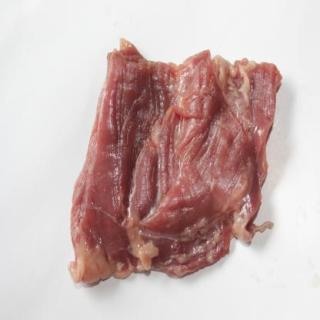Daging Sapi: (67, 37, 284, 287)
